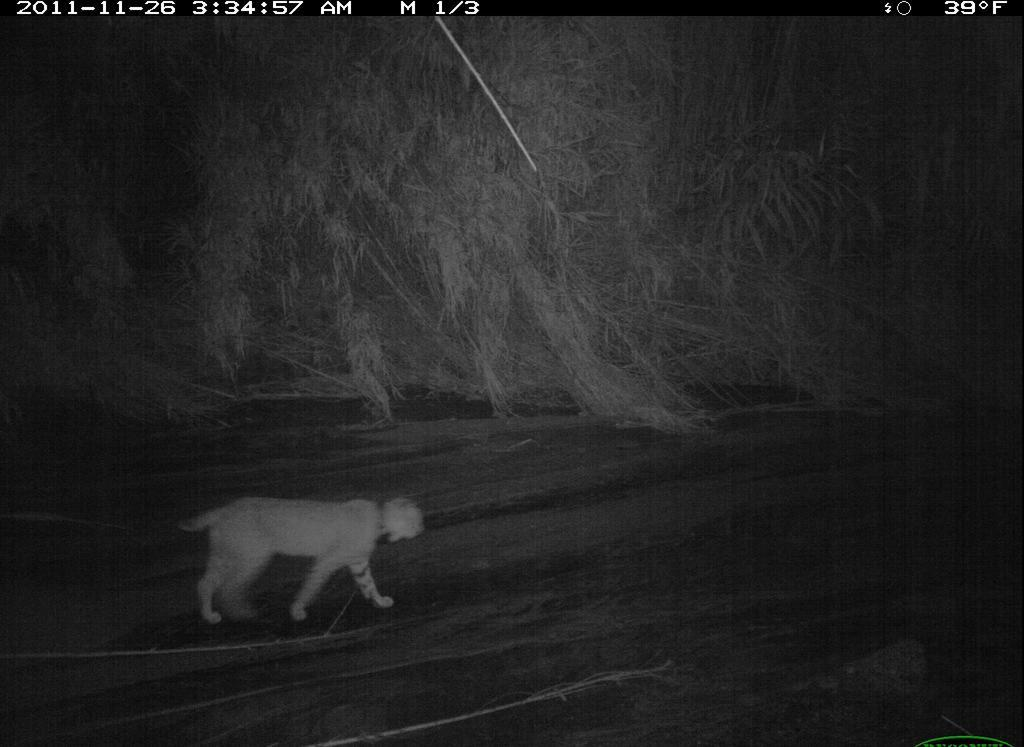bobcat: (176, 484, 434, 630)
